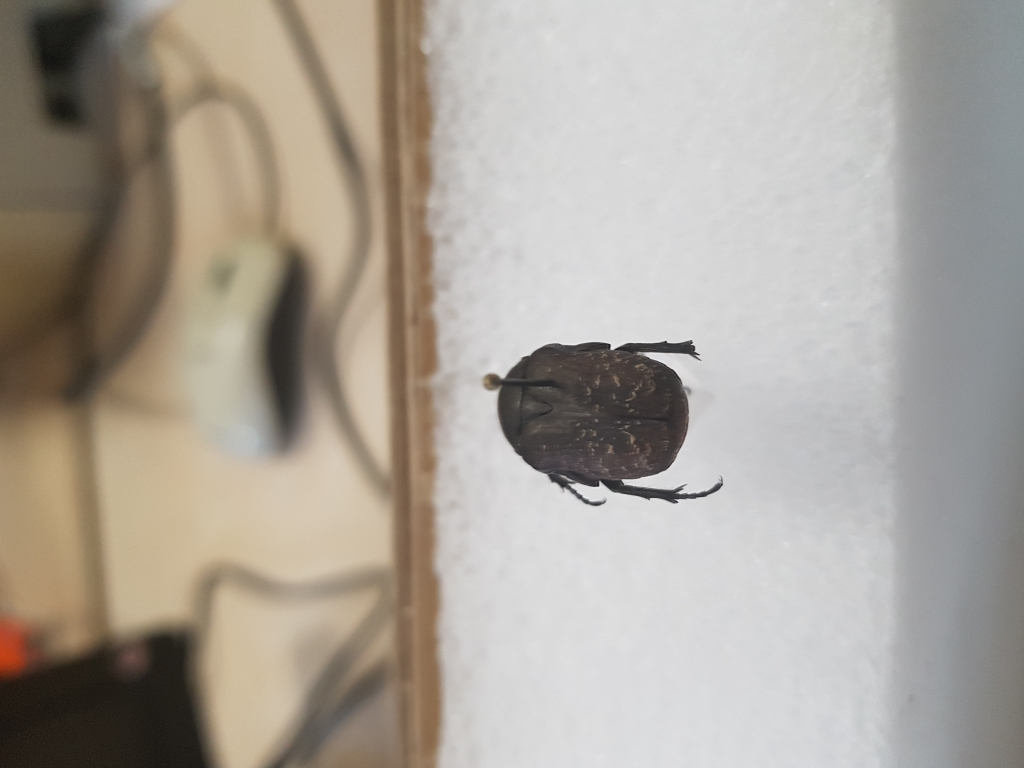Protaetia_oblonga: (489, 325, 728, 511)
